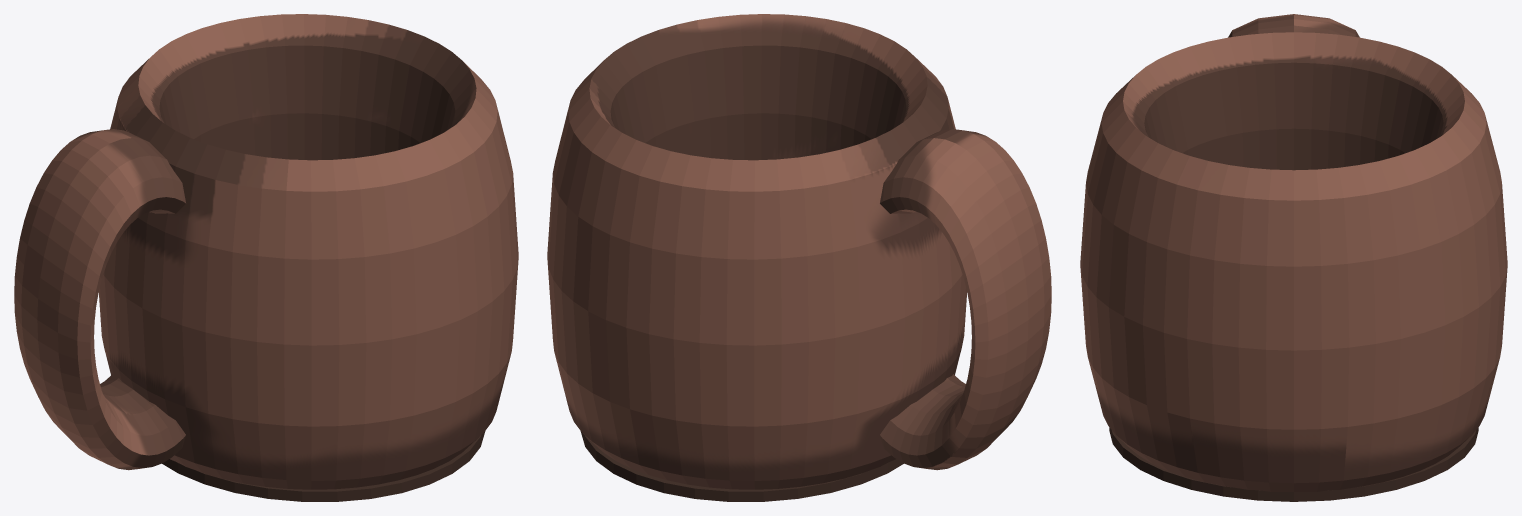
File: babciakubek.glb
The picture shows the model from 3 angles, left to right: view 1: azimuth 30°, elevation 25°; view 2: azimuth 150°, elevation 25°; view 3: azimuth 270°, elevation 25°; orthographic projection. The views are drawn at different scales.
Visible parts, largest first — view 1: Torus, Torus.001, Cylinder; view 2: Torus, Torus.001, Cylinder; view 3: Torus, Cylinder, Torus.001.
Part boxes in pixels (x1,y1,x2,y2): Torus: [98, 14, 518, 489]; Torus.001: [14, 129, 185, 470]; Cylinder: [162, 431, 485, 501]; Torus: [547, 14, 967, 489]; Torus.001: [880, 129, 1051, 470]; Cylinder: [580, 431, 903, 501]; Torus: [1080, 32, 1507, 491]; Cylinder: [1109, 427, 1478, 501]; Torus.001: [1228, 14, 1359, 37].
Size of the model in its own units: 1.79 by 1.27 by 1.5.
3 materials, 3 textured.
